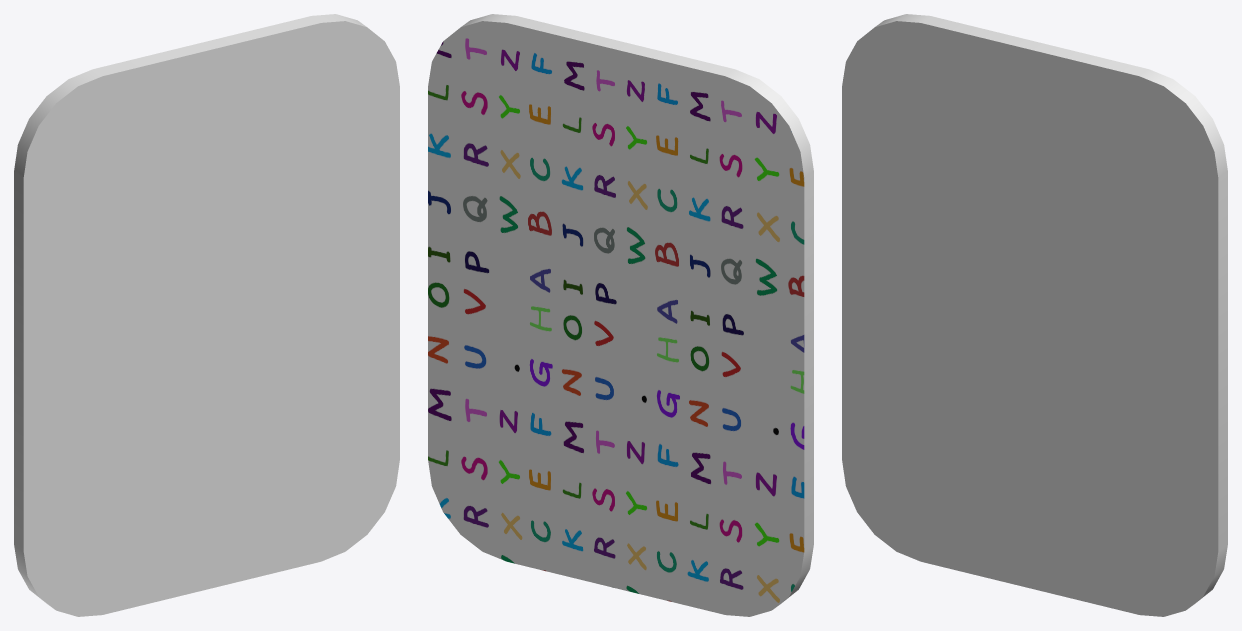
Rendered from LetterBox_A_V1.fbx.
3 renders of one model, left to right at view 1: azimuth 30°, elevation 25°; view 2: azimuth 150°, elevation 25°; view 3: azimuth 330°, elevation 25°, orthographic.
Parts seen in each view (by area): view 1: LetterBox; view 2: LetterBox; view 3: LetterBox.
Part boxes in pixels (bbox=[...]): LetterBox: bbox=[14, 14, 399, 616]; LetterBox: bbox=[428, 14, 813, 616]; LetterBox: bbox=[842, 14, 1227, 616].
Size of the model in its own units: 6.91 by 9.45 by 0.3065.
2 materials, 1 textured.
